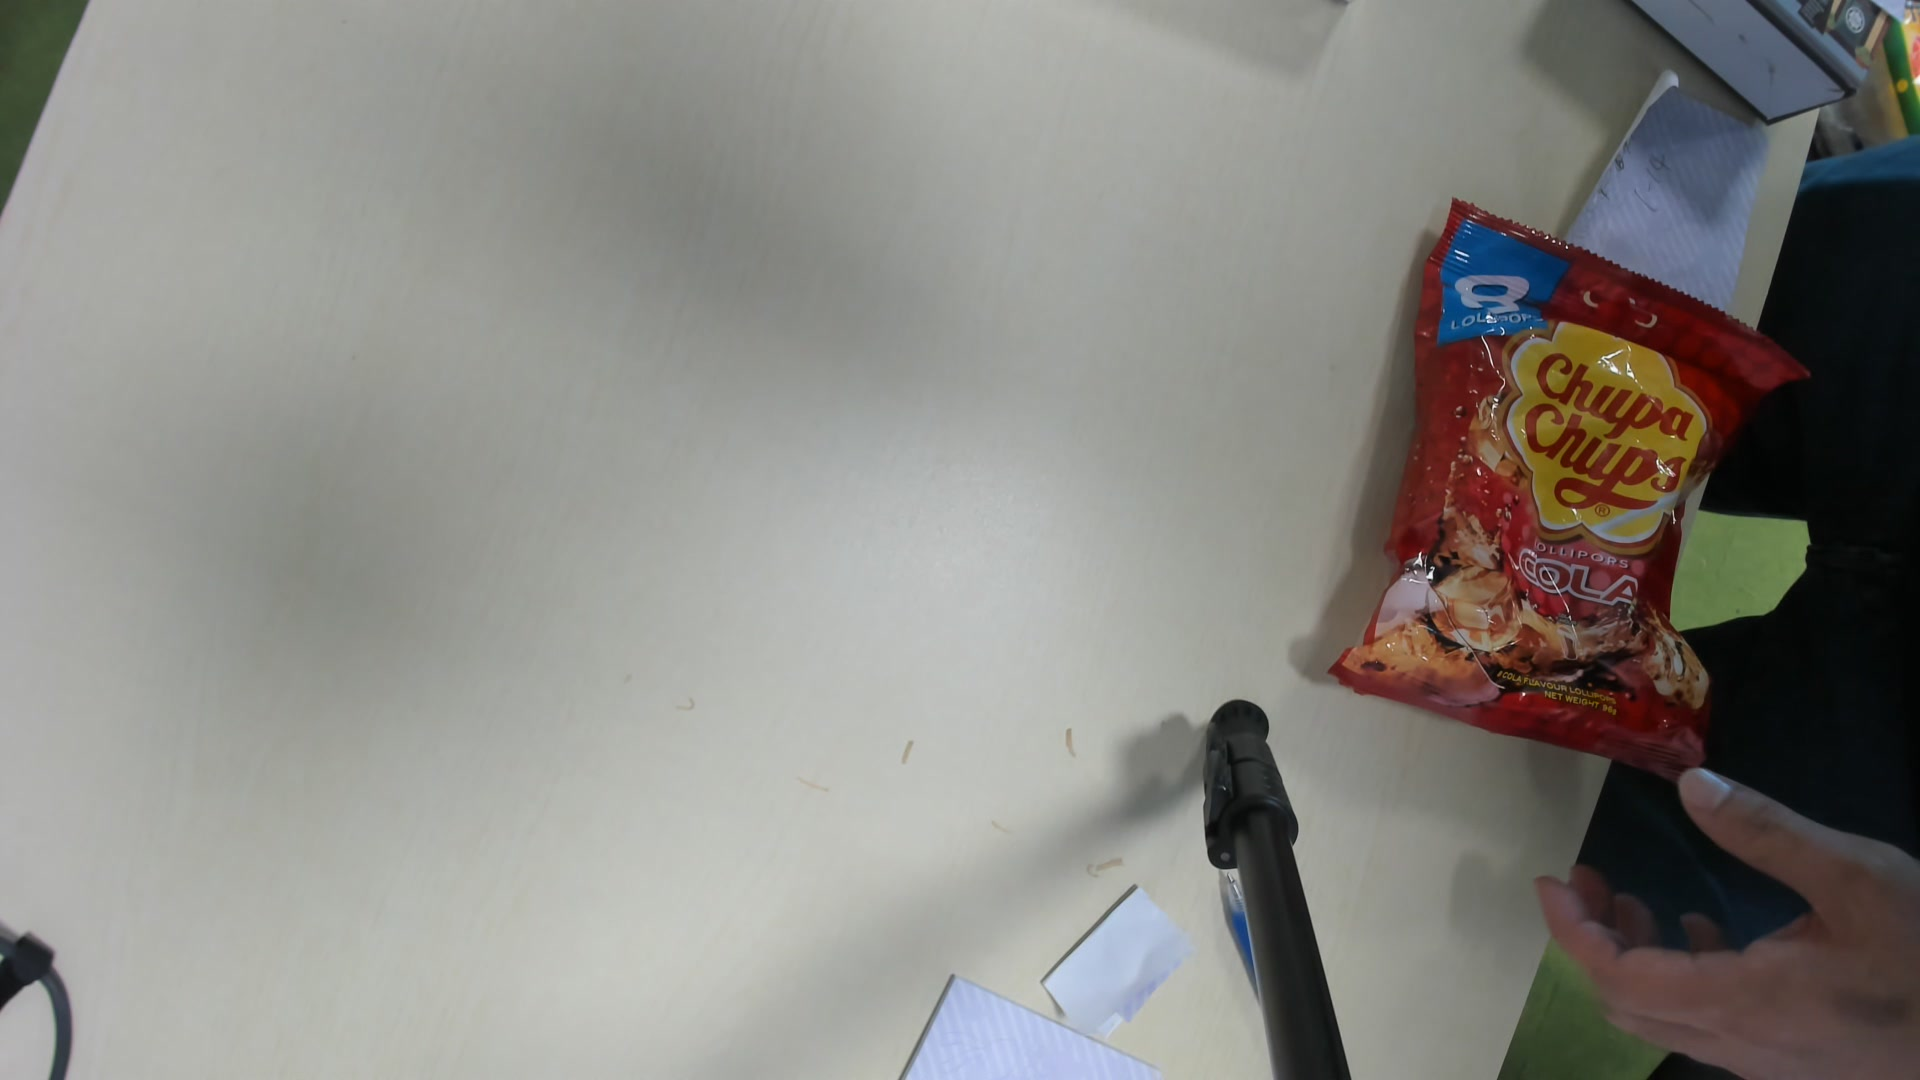SweetsChocolatesOthers_0-99g_NonHalal_Nonhealthy: (1313, 203, 1788, 796)
